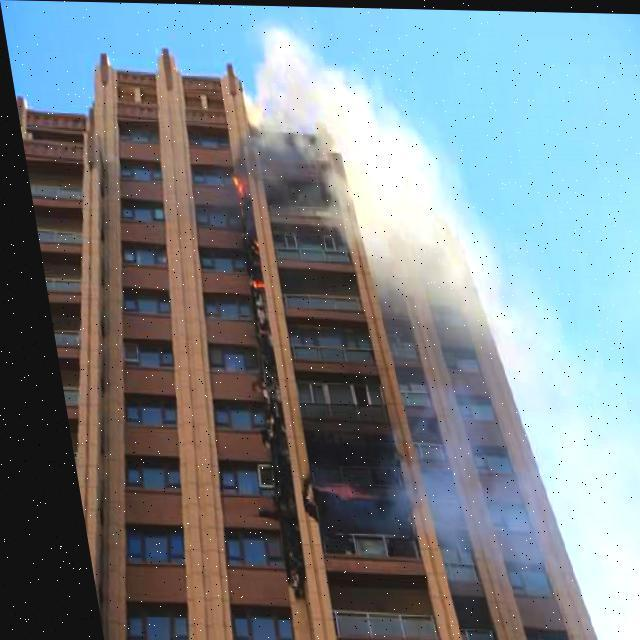Fire: (240, 264, 260, 296), (226, 168, 245, 200)
